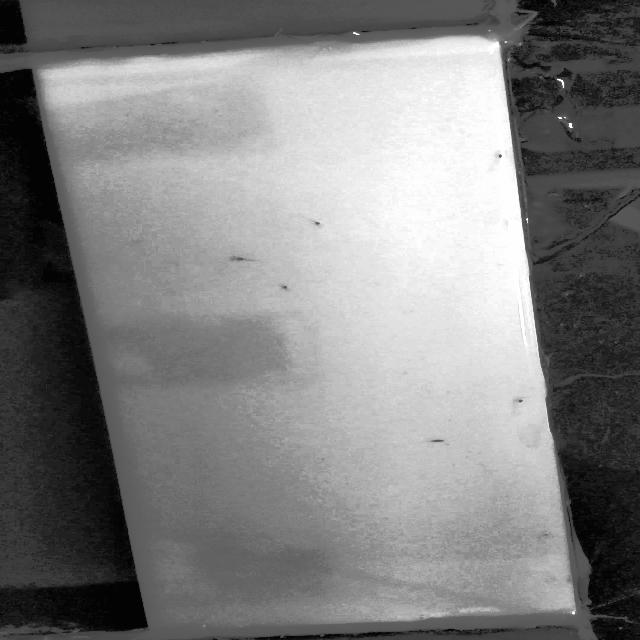shrimp: (226, 255, 268, 265), (489, 147, 509, 162), (424, 436, 453, 446), (272, 281, 294, 292), (306, 218, 329, 228), (512, 395, 528, 408), (539, 531, 556, 539)
